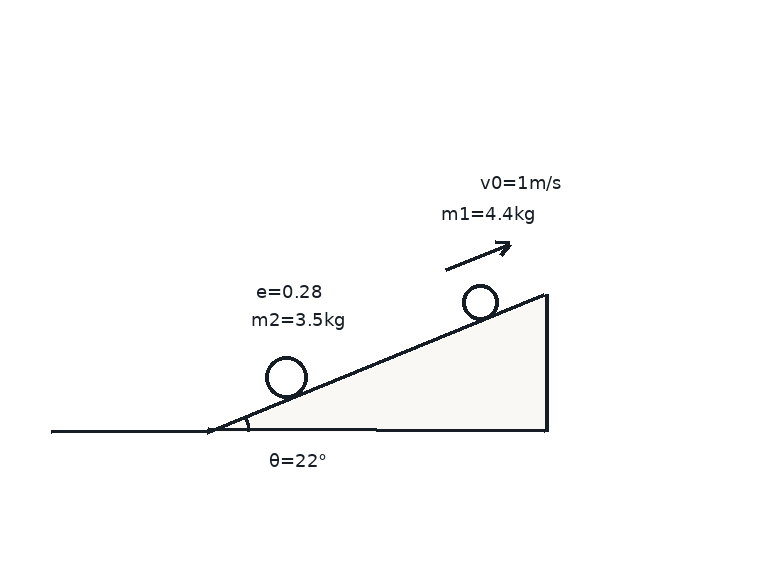ball: (263, 354, 309, 400), (460, 282, 500, 322)
ramp: (206, 293, 547, 433)
